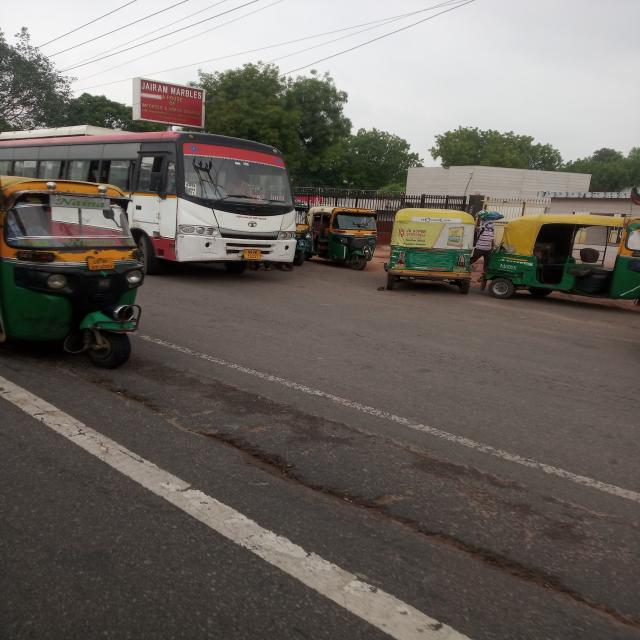Bus: (147, 134, 306, 272)
